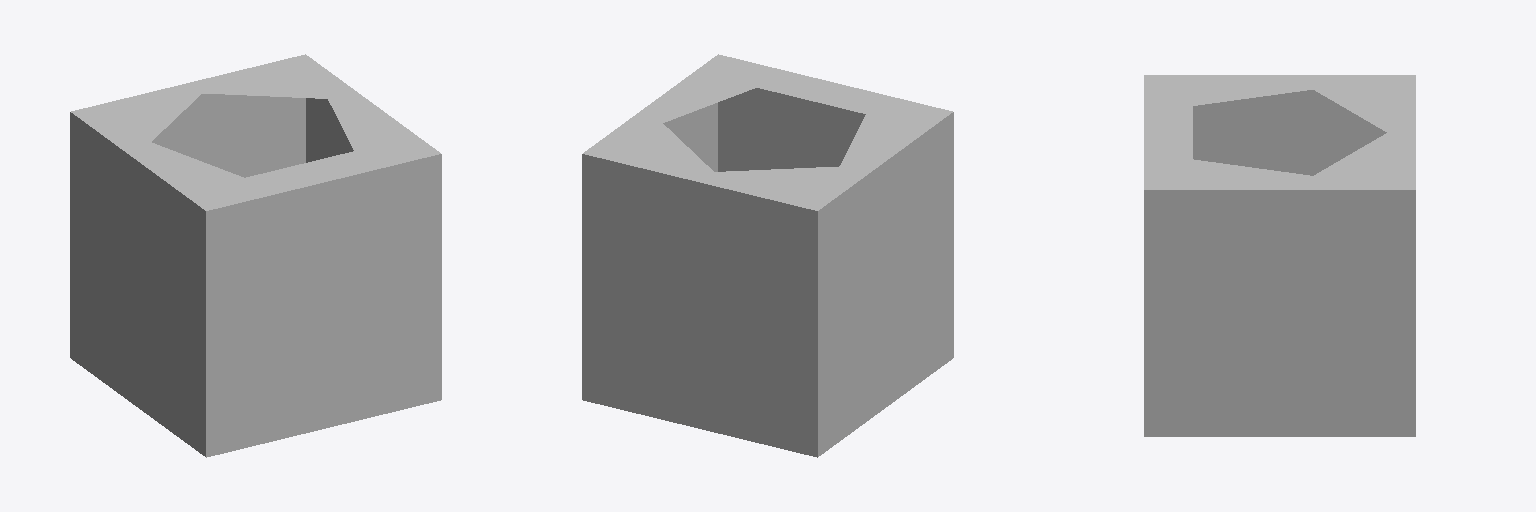
File: Pentagon_cube_bottle_base_preprocessed.obj
The picture shows the model from 3 angles: view 1: azimuth 30°, elevation 25°; view 2: azimuth 150°, elevation 25°; view 3: azimuth 270°, elevation 25°; orthographic projection.
Size of the model in its own units: 0.08 by 0.08 by 0.08.